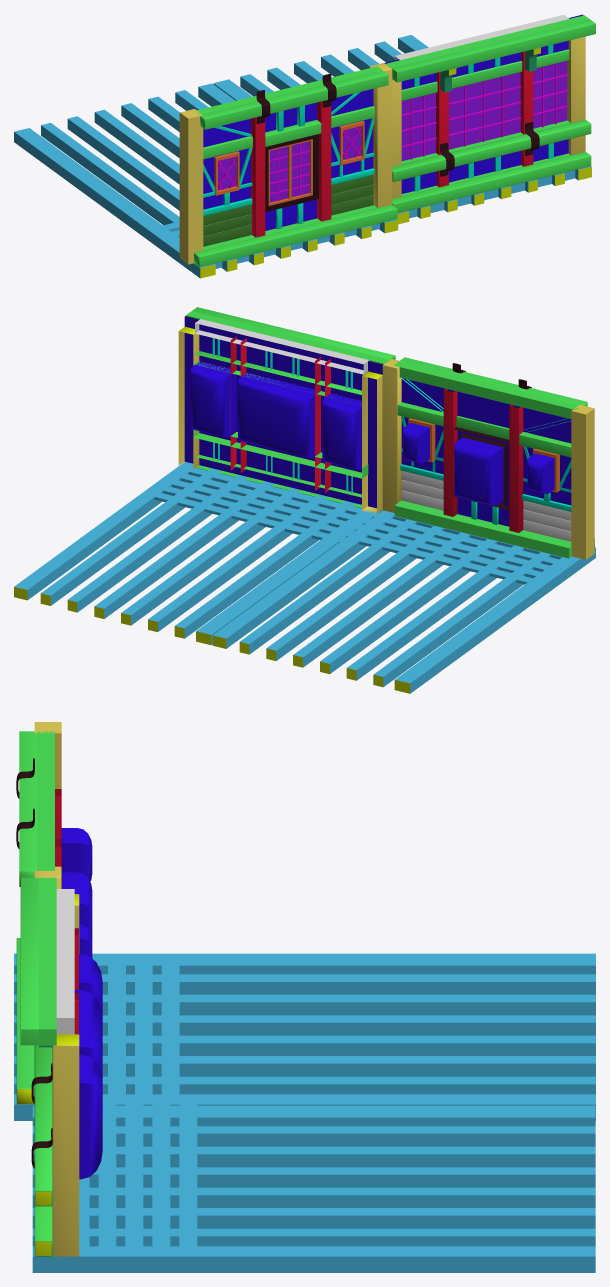
The model's file is SM_House2_MAT_UV.fbx.
The picture shows the model from 3 angles, top to bottom: view 1: azimuth 30°, elevation 25°; view 2: azimuth 150°, elevation 25°; view 3: azimuth 270°, elevation 25°; orthographic projection. The views are drawn at different scales.
Parts seen in each view (by area): view 1: SM_House2_02, SM_House1_02.001; view 2: SM_House2_02, SM_House1_02.001; view 3: SM_House1_02.001, SM_House2_02.
Part boxes in pixels (left/top/right/bottom): SM_House2_02: left=14, top=63, right=398, bottom=278; SM_House1_02.001: left=213, top=14, right=595, bottom=224; SM_House2_02: left=212, top=357, right=595, bottom=693; SM_House1_02.001: left=14, top=307, right=395, bottom=645; SM_House1_02.001: left=20, top=877, right=595, bottom=1272; SM_House2_02: left=14, top=722, right=595, bottom=1120.
Bounding box in the file's own units: 810 × 320 × 649.
